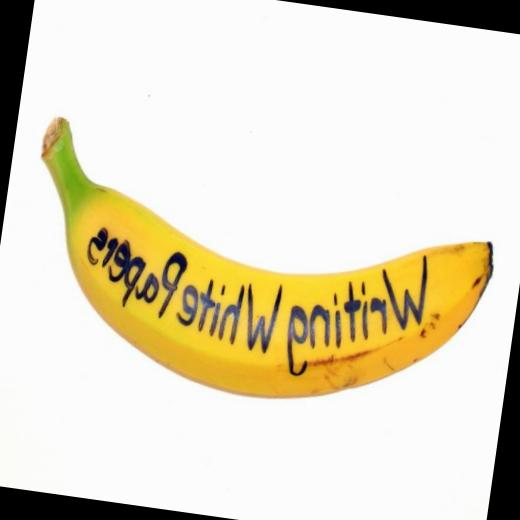Banana: (9, 112, 507, 432)
